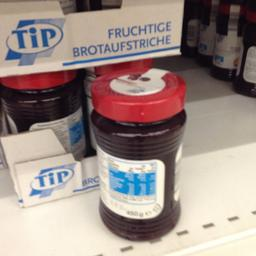jam: (92, 66, 186, 242), (4, 74, 86, 156)
